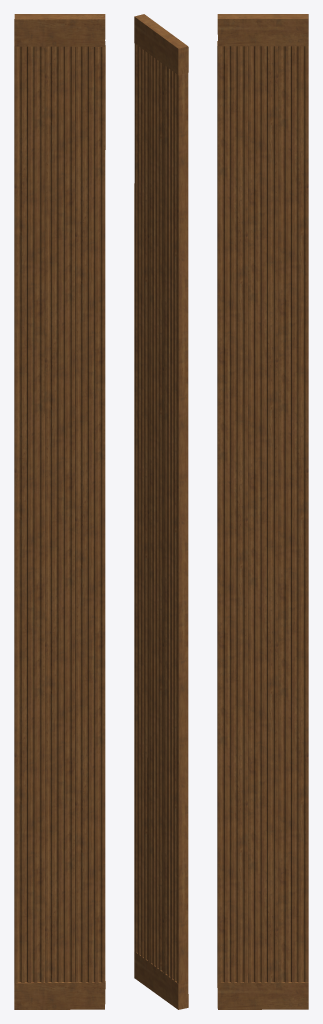
Rendered from SM_Office_Wall01s.fbx.
3 renders of one model, left to right at view 1: azimuth 90°, elevation 25°; view 2: azimuth 210°, elevation 25°; view 3: azimuth 270°, elevation 25°, orthographic. The views are drawn at different scales.
Visible parts, largest first — view 1: SM_Office_Wall01s_LOD0; view 2: SM_Office_Wall01s_LOD0; view 3: SM_Office_Wall01s_LOD0.
Part boxes in pixels (<box>): SM_Office_Wall01s_LOD0: <box>14,14,105,1009</box>; SM_Office_Wall01s_LOD0: <box>134,14,188,1009</box>; SM_Office_Wall01s_LOD0: <box>217,14,308,1009</box>.
Size of the model in its own units: 20.9 by 150 by 1800.
